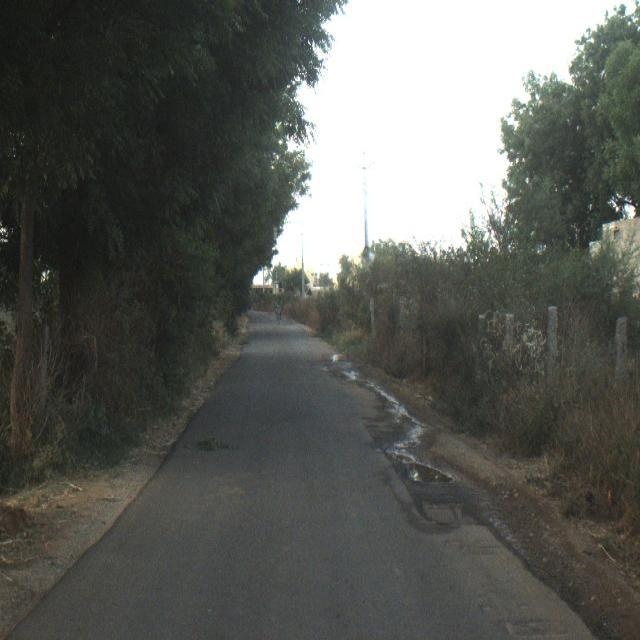pothole: (373, 452, 476, 545), (189, 412, 242, 496), (502, 603, 568, 640), (372, 386, 420, 434), (322, 348, 356, 400)
